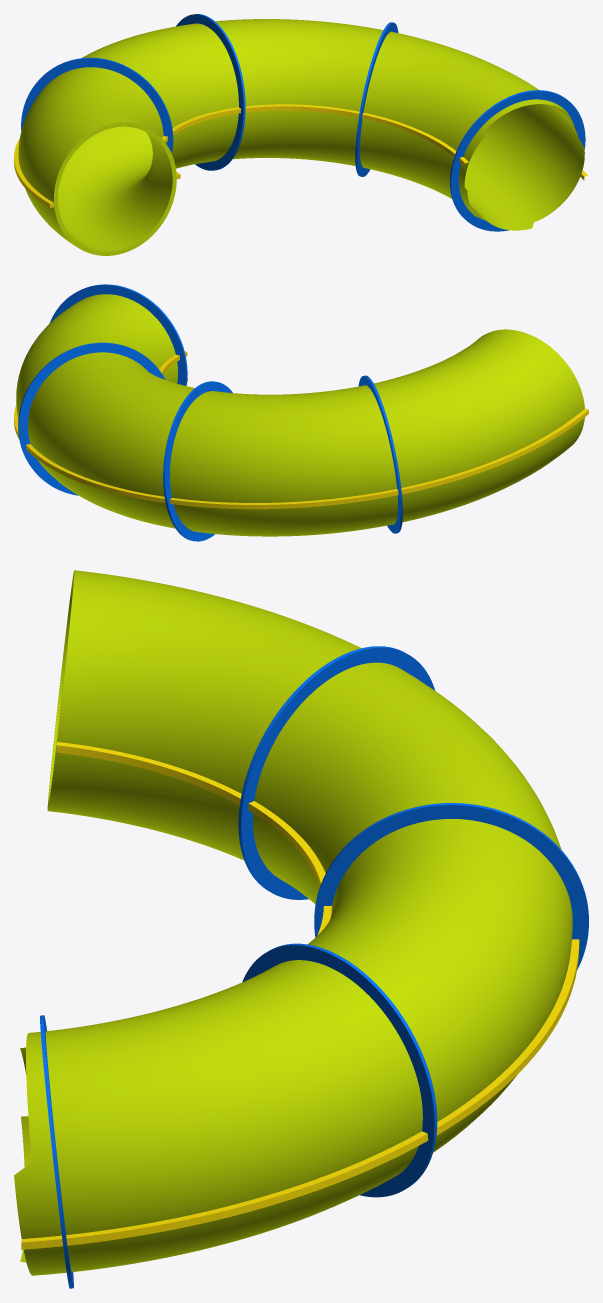
File: slide_piece.glb
3 renders of one model, top to bottom at view 1: azimuth 30°, elevation 25°; view 2: azimuth 150°, elevation 25°; view 3: azimuth 270°, elevation 25°, orthographic. The views are drawn at different scales.
Parts seen in each view (by area): view 1: Slide; view 2: Slide; view 3: Slide.
Part boxes in pixels (x1,y1,x2,y2): Slide: [14, 14, 587, 255]; Slide: [14, 284, 588, 541]; Slide: [14, 570, 588, 1288].
Bounding box in the file's own units: 13.3 × 4.82 × 7.11.
